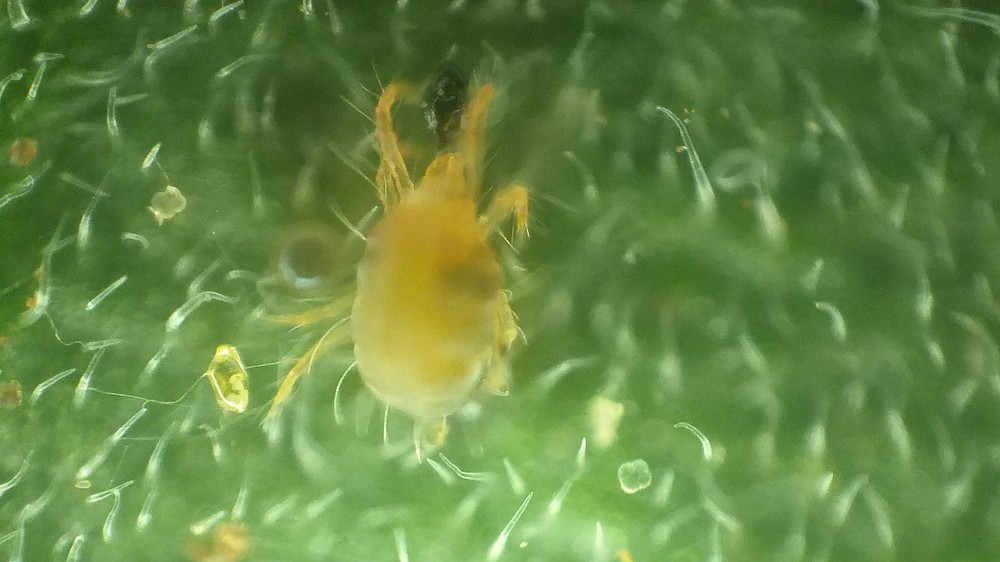Aracnido Rojo: (263, 74, 580, 490)
